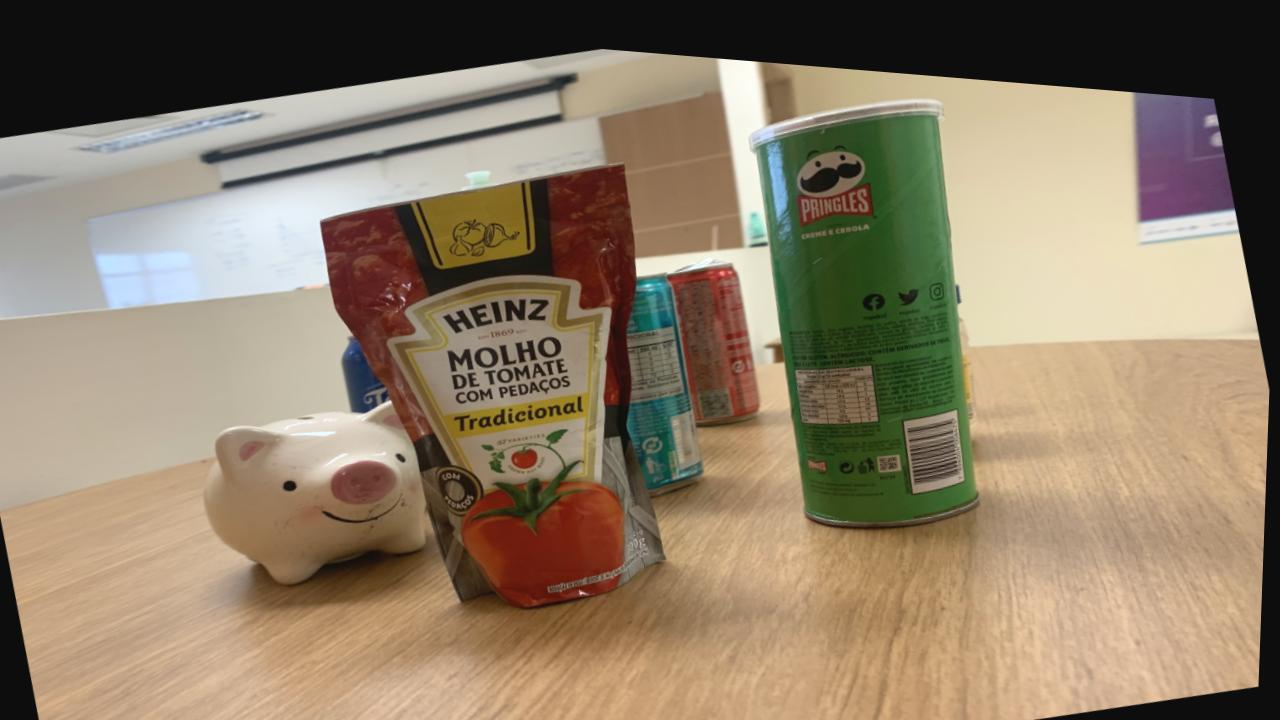Coke-Drinks: (668, 246, 762, 414)
Pig_Safe-Miscellaneous: (207, 395, 430, 579)
Pringles-Snacks: (752, 83, 982, 512)
Tea-Drinks: (628, 261, 707, 484)
Tomato_Sauce-Pantry_Items: (322, 153, 668, 598)
Tonic-Drinks: (343, 330, 392, 406)
